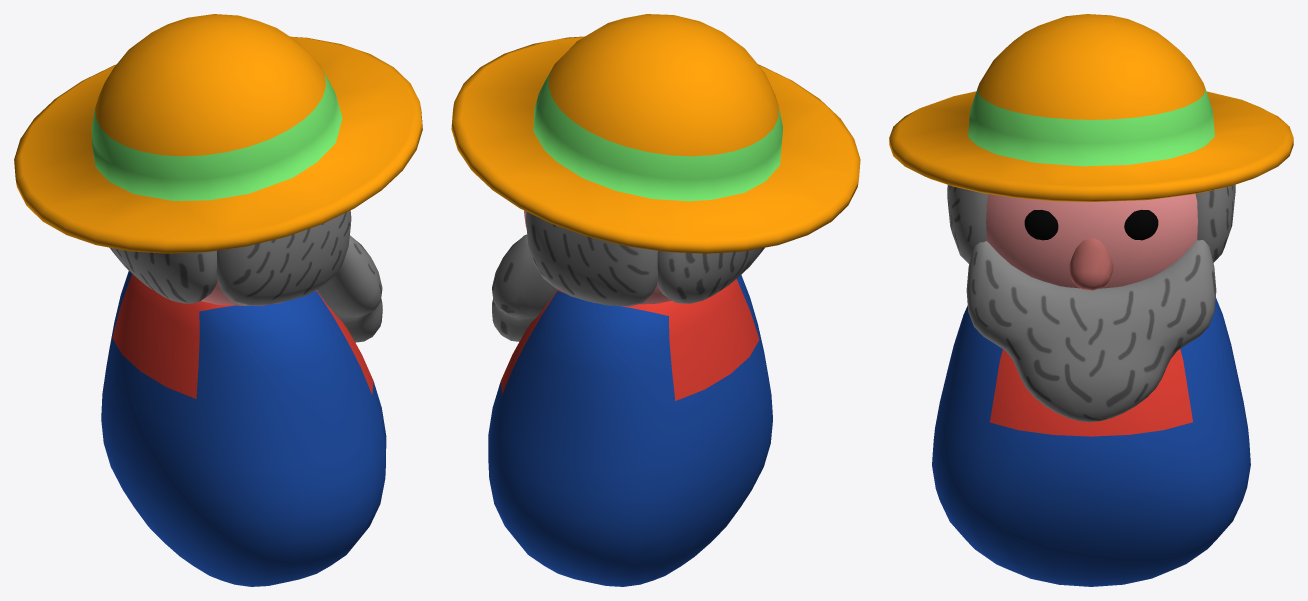
File: farmer.glb
The picture shows the model from 3 angles, left to right: view 1: azimuth 30°, elevation 25°; view 2: azimuth 150°, elevation 25°; view 3: azimuth 270°, elevation 25°; orthographic projection. The views are drawn at different scales.
Parts seen in each view (by area): view 1: Granjero; view 2: Granjero; view 3: Granjero.
Boxes of the visible parts, x1,y1,x2,y2 form: Granjero: (14,14,422,586); Granjero: (451,14,860,586); Granjero: (889,14,1293,586).
Bounding box in the file's own units: 1.6 × 2.37 × 1.62.
8 materials, 1 textured.
